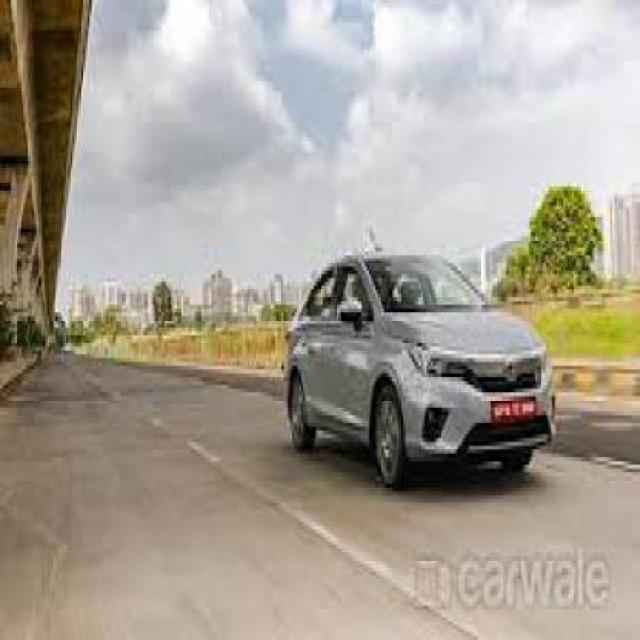vehicle: (277, 242, 567, 496)
